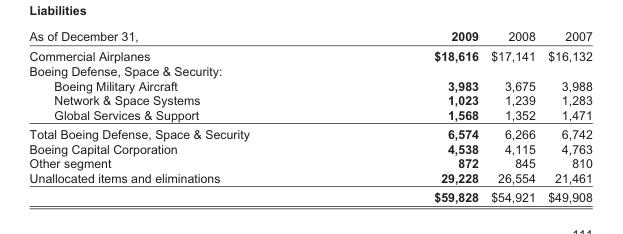table: (28, 28, 591, 203)
table column: (28, 28, 341, 203), (341, 28, 484, 203), (484, 28, 541, 203), (541, 28, 591, 203)
table column header: (28, 28, 591, 45)
table projected row header: (28, 62, 591, 77)
table row: (28, 28, 591, 45), (28, 45, 591, 62), (28, 123, 591, 140), (28, 186, 591, 203), (28, 107, 591, 123), (28, 170, 591, 186), (28, 62, 591, 77), (28, 77, 591, 92), (28, 92, 591, 107), (28, 140, 591, 155), (28, 155, 591, 170)
